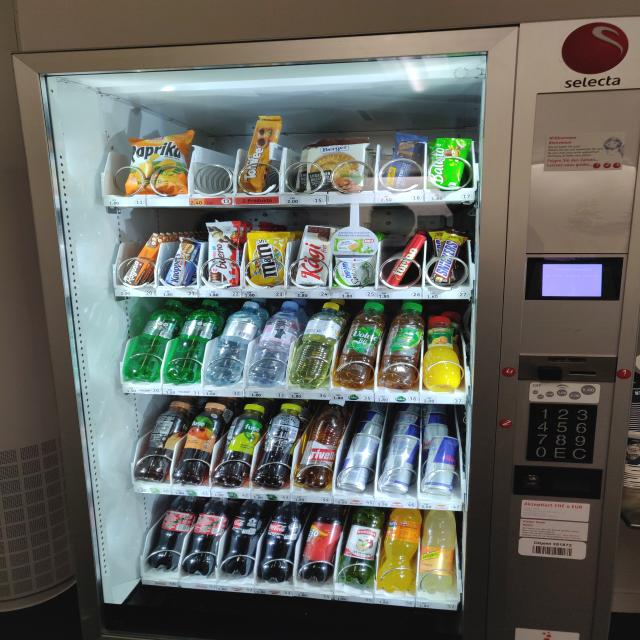balisto_muesli__37g__5000159418546: (424, 135, 472, 190)
berger_nusstoertli____: (304, 138, 369, 192)
bueno___43__4008400320328: (202, 220, 242, 288)
coke__flasche_50__54491472: (182, 502, 227, 576), (148, 496, 189, 574)
coke_zero_flasche_50__5449000131836: (259, 506, 301, 581), (222, 503, 264, 577)
evian___50__3068320353500: (247, 302, 298, 386)
fanta___50__40822938: (375, 513, 419, 593)
fuse_lemon__50__5449000235947: (210, 398, 265, 486), (254, 401, 304, 489)
fuse_peach__50__5449000236623: (172, 400, 225, 485), (138, 402, 189, 482)
granini_orange__50__: (419, 307, 466, 390)
kagi___50__7610046000259: (294, 225, 337, 287)
knoppers_riegel____4035800488808: (162, 232, 200, 287)
mezzomix___50__54490840: (298, 505, 344, 581)
mnms_gelb__45__40111445: (239, 229, 292, 287)
powerbar_proteinplusschoko__55__4029679520028: (376, 133, 425, 192)
ragusa___50__76401121: (119, 230, 162, 285)
ramseier_jusdepomme__50__7610057001078: (333, 507, 379, 585)
redbull___33__90162909: (375, 433, 419, 495), (338, 434, 380, 494), (423, 433, 461, 496)
rivella_rot__50__7610097111072: (300, 401, 344, 490)
schweppes_citrus__50__: (417, 510, 457, 595)
snickers___50__5000159461122: (428, 230, 468, 286)
toffifee___33__4014400924275: (232, 114, 284, 195)
torino___46__76415272: (381, 231, 426, 289)
valser_classic__50__76404160: (163, 302, 219, 386), (128, 302, 180, 382)
valser_still__50__7610335002575: (208, 302, 258, 385)
valser_vivabirne__50__7610335001530: (292, 302, 342, 389)
volvic_teeminze__50__3057640335648: (336, 300, 383, 389), (376, 301, 421, 389)
zweifel_paprika__90__7610095013002: (120, 130, 193, 197)
